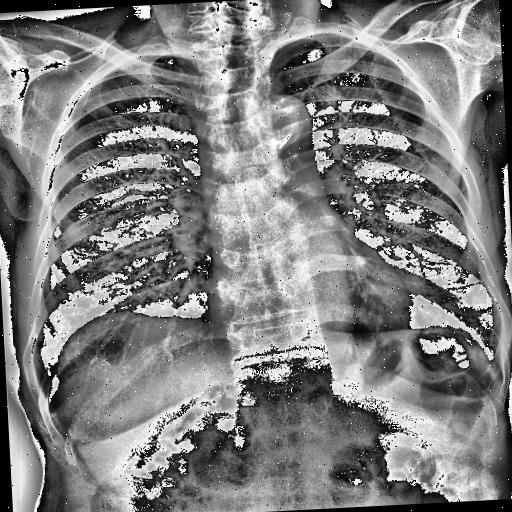0- Aortic enlargement: (248, 90, 318, 176), (245, 96, 315, 146)
10- Pleural effusion: (30, 376, 69, 416), (34, 392, 70, 418), (480, 349, 508, 379), (477, 344, 501, 374)
11- Pleural thickening: (30, 376, 69, 416), (34, 392, 70, 418), (480, 349, 508, 379), (477, 344, 501, 374)
13- Pulmonary fibrosis: (428, 278, 488, 300), (454, 280, 484, 291), (449, 282, 486, 290)
9- Other lesion: (48, 310, 214, 400)
